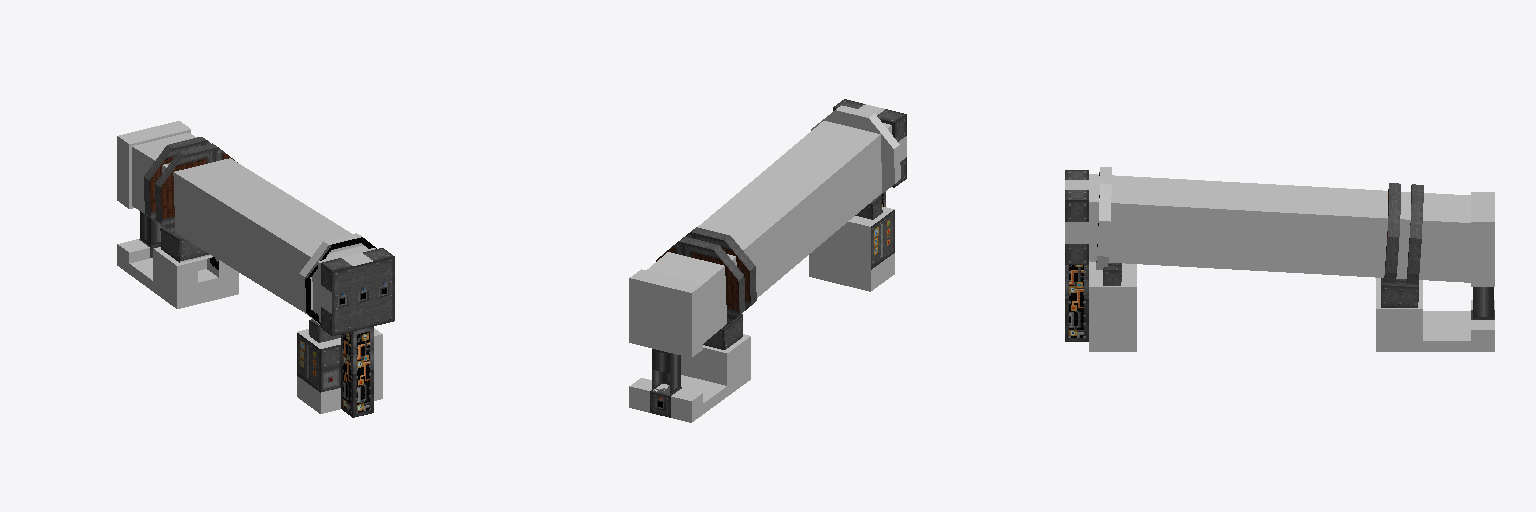
3 renders of one model, left to right at view 1: azimuth 30°, elevation 25°; view 2: azimuth 150°, elevation 25°; view 3: azimuth 270°, elevation 25°, orthographic.
Parts seen in each view (by area): view 1: barrel; view 2: barrel; view 3: barrel.
Part boxes in pixels (x1,y1,x2,y2): barrel: (117, 121, 394, 417); barrel: (629, 99, 906, 422); barrel: (1065, 167, 1494, 351).
Size of the model in its own units: 4 by 7.46 by 18.
14 materials, 7 textured.